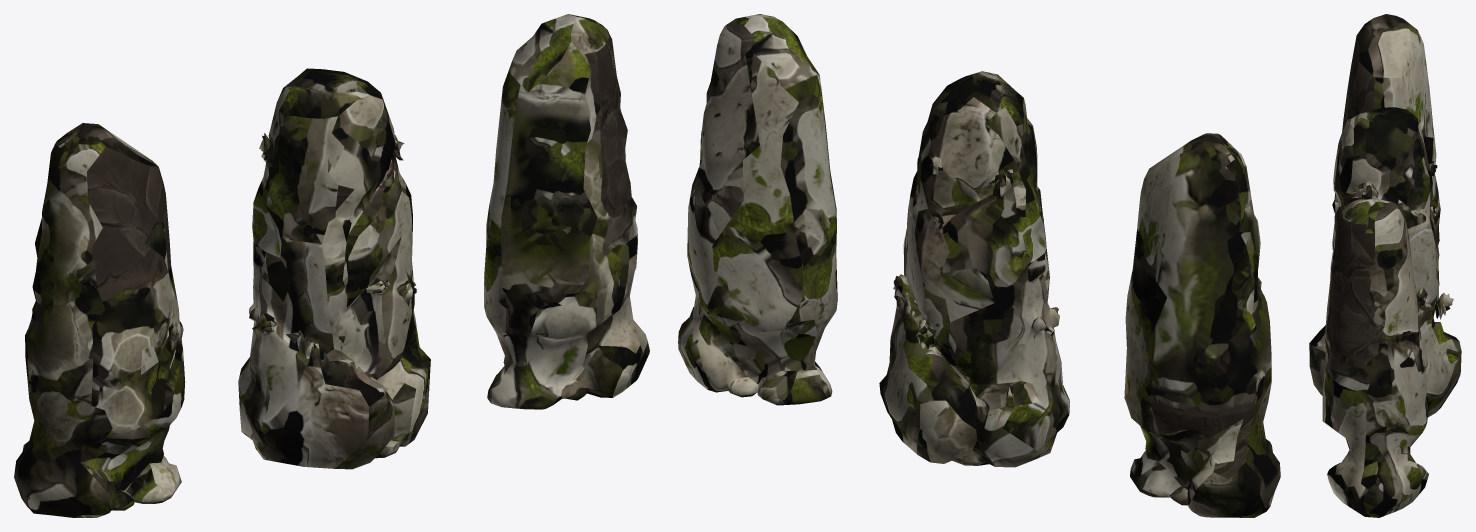
File: Boulder.fbx
3 renders of one model, left to right at view 1: azimuth 30°, elevation 25°; view 2: azimuth 150°, elevation 25°; view 3: azimuth 270°, elevation 25°, orthographic. The views are drawn at different scales.
Parts seen in each view (by area): view 1: mesh_node; view 2: mesh_node; view 3: mesh_node.
Boxes of the visible parts, left/top/right/bottom form: mesh_node: left=14, top=14, right=649, bottom=517; mesh_node: left=678, top=14, right=1280, bottom=517; mesh_node: left=1309, top=14, right=1461, bottom=517.
Size of the model in its own units: 1.98 by 1.16 by 0.5392.
